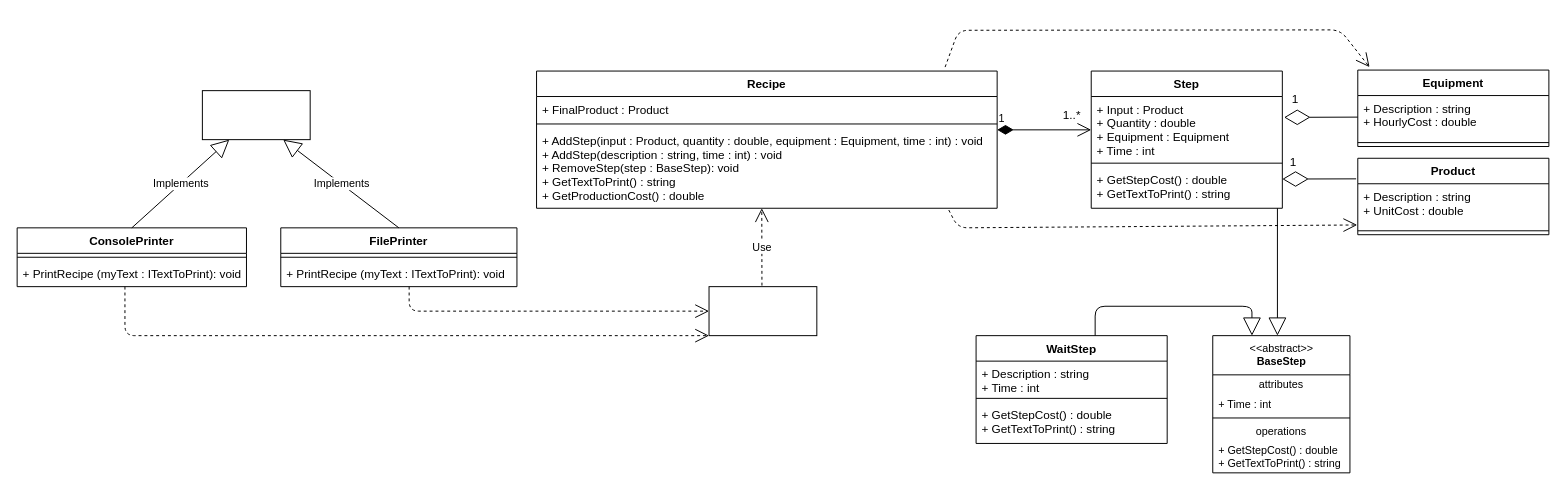
Some shapes in this 1566 by 490 pixel diagram are drawn without their labels. The shapes that lost their labels are listed below. From the top down, each one's centre as x and y in pixels, then its label:
the point at 255,115: «interface» IPrinter
the point at 762,311: «interface» ITextToPrint
